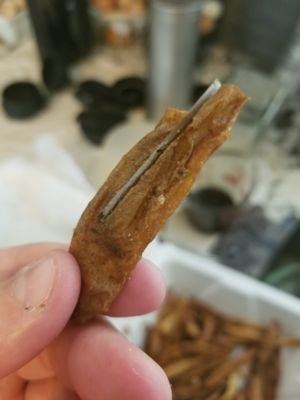pizza: (0, 243, 173, 400)
